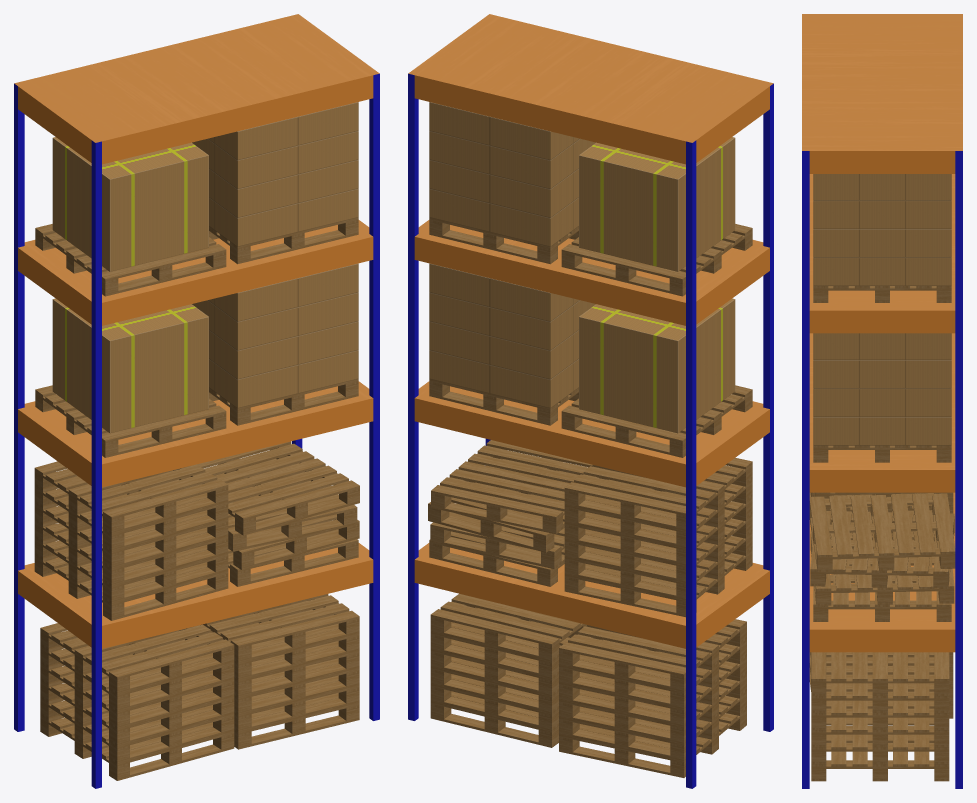
The model's file is Shelf_groupC.fbx.
3 views of the same model, side by side, from view 1: azimuth 30°, elevation 25°; view 2: azimuth 150°, elevation 25°; view 3: azimuth 270°, elevation 25° (orthographic).
Parts seen in each view (by area): view 1: pCube56, Pallet_Wood21, Pallet_Wood20, pCube123, pCube124, Pallet_Wood6, pCube110, pCube119, Pallet_Wood22, polySurface177, polySurface176, polySurface173 (+1 smaller); view 2: pCube56, Pallet_Wood21, Pallet_Wood20, pCube123, pCube124, Pallet_Wood6, pCube110, pCube119, Pallet_Wood22, polySurface177, polySurface175, polySurface173 (+1 smaller); view 3: pCube56, Pallet_Wood6, pCube124, pCube123, polySurface177, polySurface176, polySurface175, polySurface173, Pallet_Wood22, Pallet_Wood21, Pallet_Wood20.
Part boxes in pixels (box(x1,y1,x2,y2)): pCube56: box(14, 14, 379, 788); Pallet_Wood21: box(34, 461, 228, 620); Pallet_Wood20: box(40, 623, 234, 780); pCube123: box(192, 102, 358, 246); pCube124: box(192, 263, 358, 408); Pallet_Wood6: box(200, 594, 359, 749); pCube110: box(52, 298, 208, 433); pCube119: box(52, 137, 208, 271); Pallet_Wood22: box(35, 217, 358, 457); polySurface177: box(195, 441, 359, 535); polySurface176: box(227, 463, 357, 551); polySurface173: box(228, 529, 358, 586); pCube56: box(408, 14, 773, 788); Pallet_Wood21: box(564, 457, 752, 617); Pallet_Wood20: box(559, 619, 746, 777); pCube123: box(429, 102, 595, 246); pCube124: box(429, 263, 595, 408); Pallet_Wood6: box(430, 593, 586, 747); pCube110: box(579, 298, 735, 433); pCube119: box(579, 137, 735, 271); Pallet_Wood22: box(429, 217, 752, 457); polySurface177: box(431, 440, 592, 534); polySurface175: box(430, 503, 564, 569); polySurface173: box(429, 531, 564, 586); pCube56: box(802, 14, 962, 788); Pallet_Wood6: box(811, 652, 949, 781); pCube124: box(813, 333, 951, 445); pCube123: box(813, 174, 951, 285); polySurface177: box(809, 493, 955, 572); polySurface176: box(810, 511, 954, 588); polySurface175: box(810, 530, 954, 605); polySurface173: box(813, 548, 951, 621); Pallet_Wood22: box(813, 286, 951, 462); Pallet_Wood21: box(809, 492, 953, 540); Pallet_Wood20: box(809, 652, 953, 718).
Size of the model in its own units: 258 by 560 by 128.
